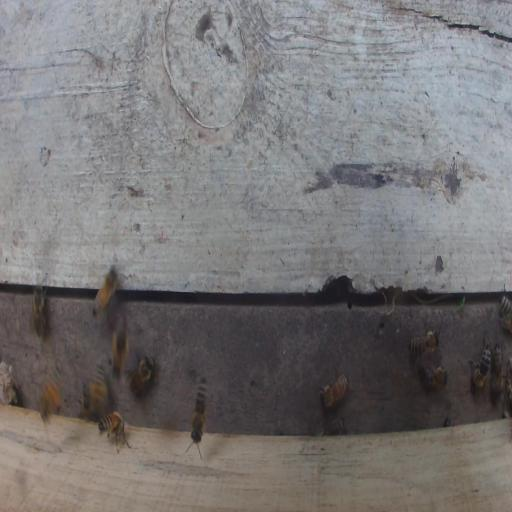nonpollenbee: (467, 328, 492, 393), (97, 409, 132, 454), (92, 266, 120, 319), (188, 380, 208, 446), (128, 351, 155, 396), (417, 355, 448, 393), (319, 374, 349, 413), (29, 285, 48, 343), (408, 329, 440, 360), (494, 280, 511, 335), (490, 340, 503, 402), (322, 417, 346, 435)
pollenbee: (112, 310, 130, 377)
